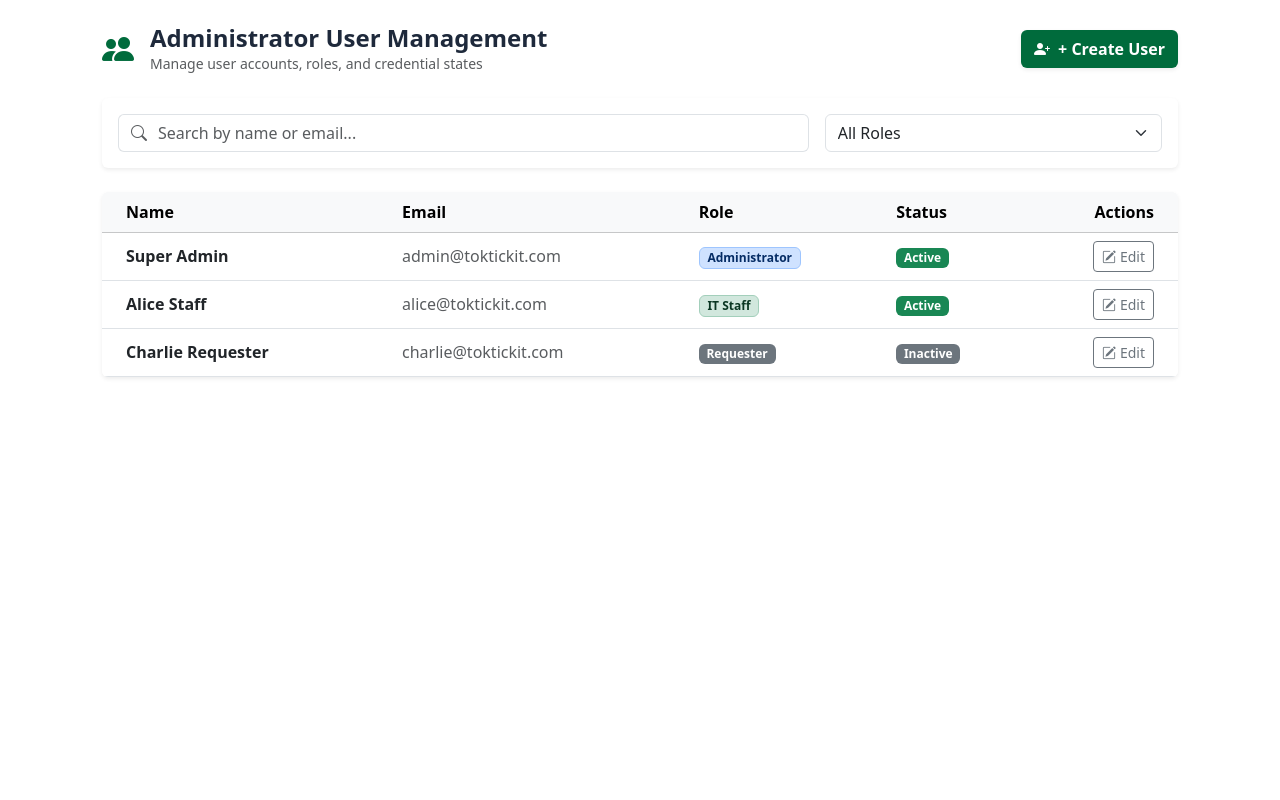
Test: Administrator User Management UI (Lab 3 UI-27 to UI-34) › UI-32: visibly disables self-deactivation with warning message
What coordinates should you click on to do the following:
click the button with aria-label "edit super admin"
I would click on:
 (1123, 256)
Its box is [1093,241,1154,272].
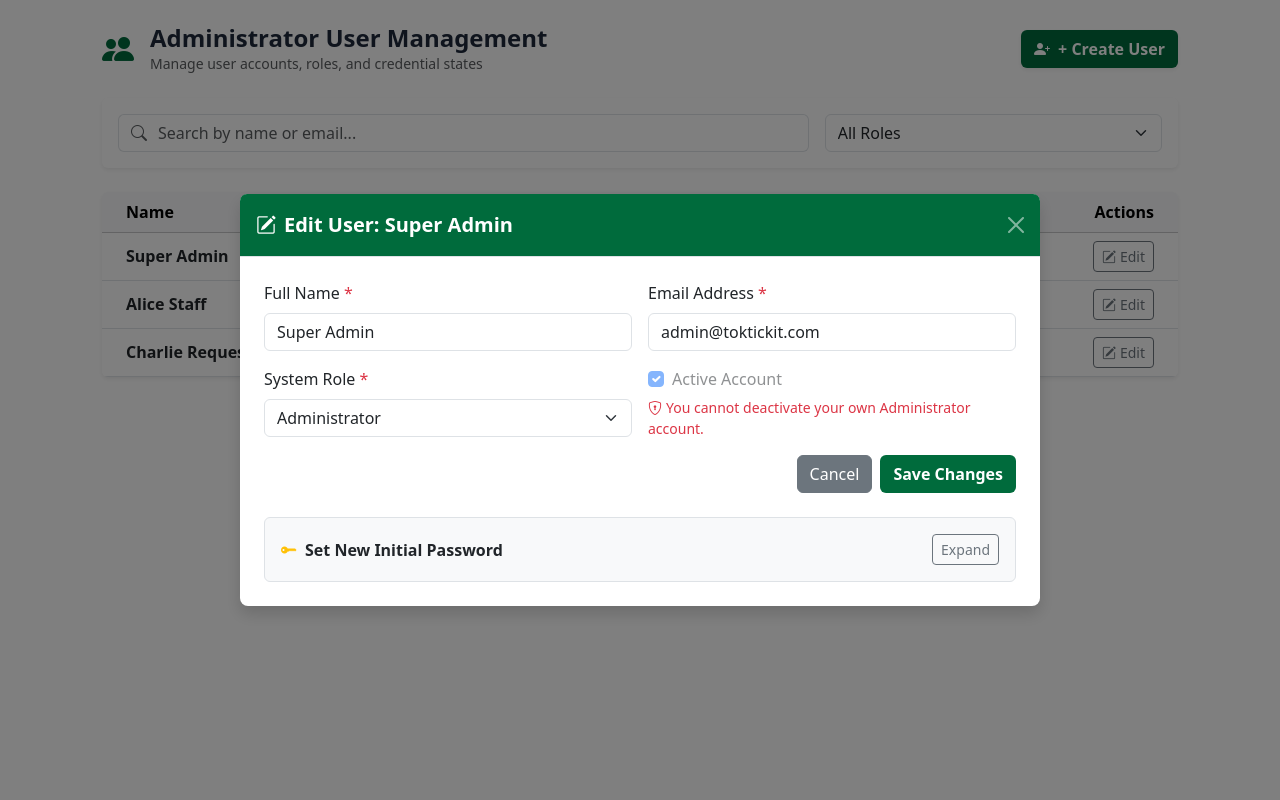
Now the checkbox labelled "Active Account" is disabled, box [648,371,664,387]
Now the text "You cannot deactivate your own Administrator account." is shown, box [648,397,1016,439]
